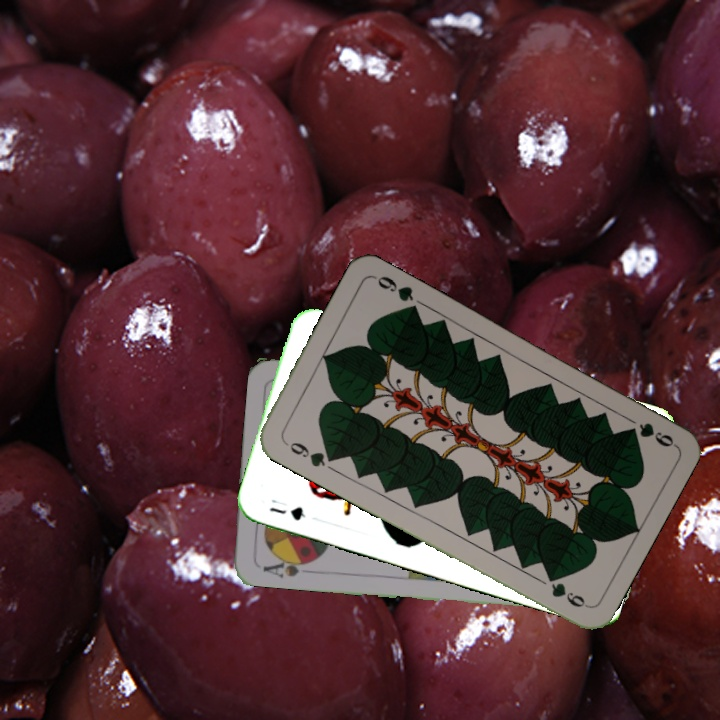G9: (280, 436, 338, 470), (623, 418, 678, 450)
GU: (265, 502, 309, 523)
SA: (258, 552, 316, 580)
